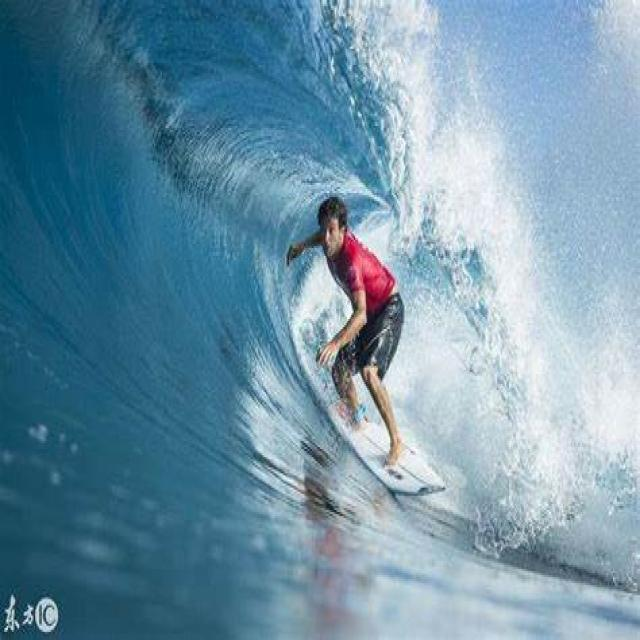sit: (306, 177, 427, 478)
